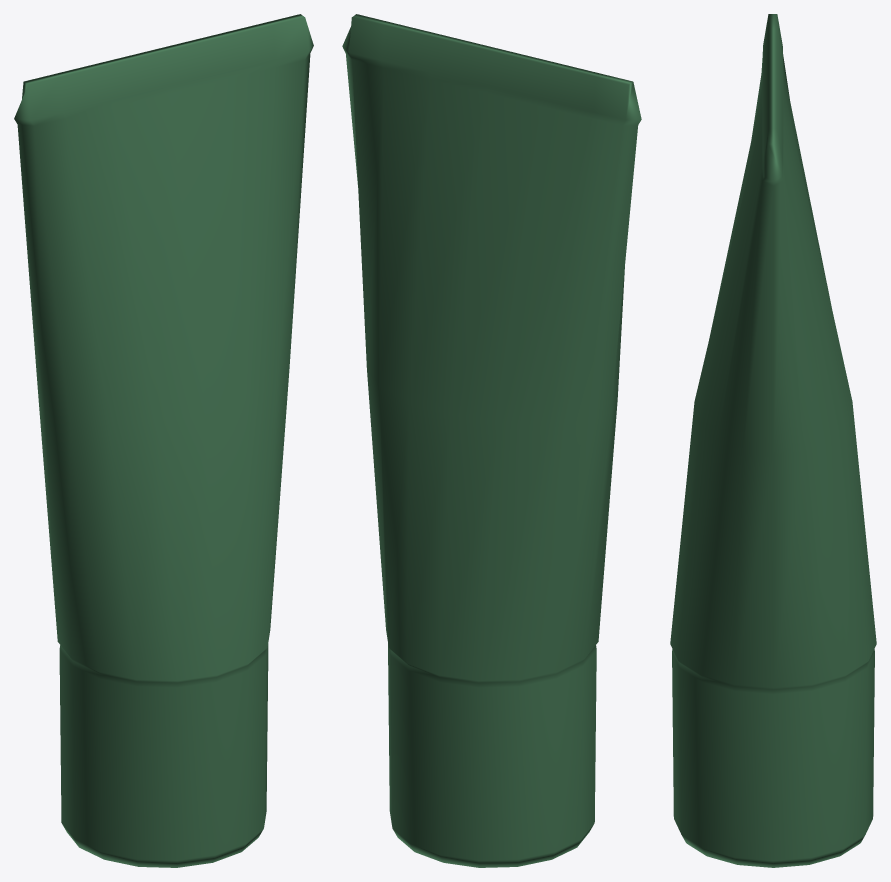
The model's file is Flacon_03.fbx.
The picture shows the model from 3 angles, left to right: view 1: azimuth 30°, elevation 25°; view 2: azimuth 150°, elevation 25°; view 3: azimuth 270°, elevation 25°; orthographic projection. The views are drawn at different scales.
Visible parts, largest first — view 1: Flacon_03; view 2: Flacon_03; view 3: Flacon_03.
Part boxes in pixels (bbox=[...]): Flacon_03: bbox=[14, 14, 313, 867]; Flacon_03: bbox=[342, 14, 641, 867]; Flacon_03: bbox=[670, 14, 876, 867].
Bounding box in the file's own units: 11.48 × 28.47 × 7.11.
